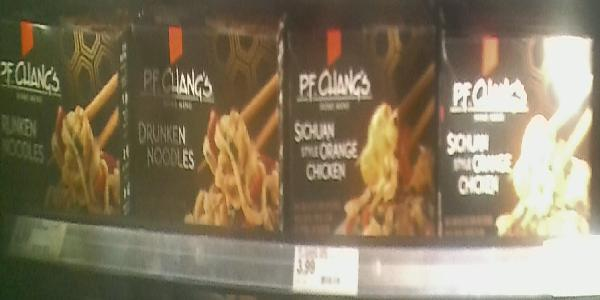pizza1: (126, 16, 284, 238), (439, 31, 597, 241), (288, 23, 440, 238), (1, 16, 125, 217)
